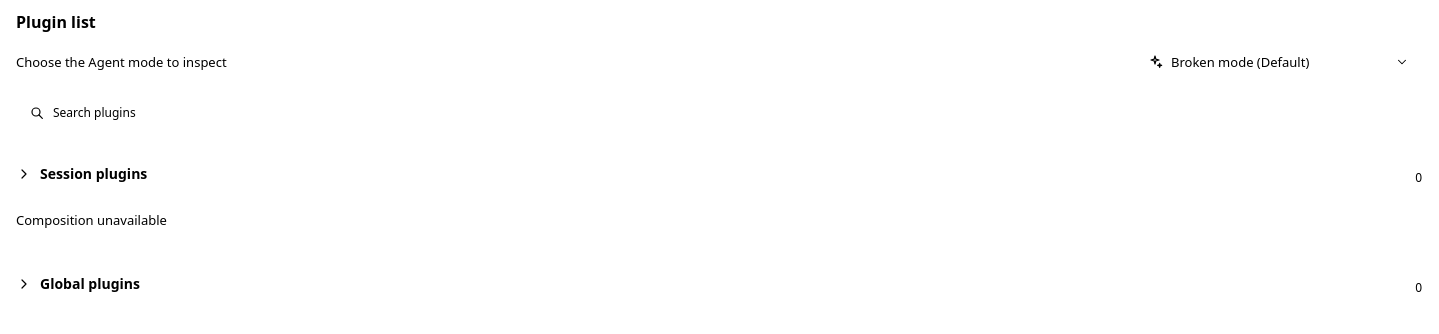
Test: PluginInventory › preserves the broken-composition alert and preset identity
The width and height of the screenshot is (1439, 334).
Expected: the message reads "Composition unavailable", [16,211,167,229]
Click the button "Session plugins": (94, 173) [16,158,1407,190]
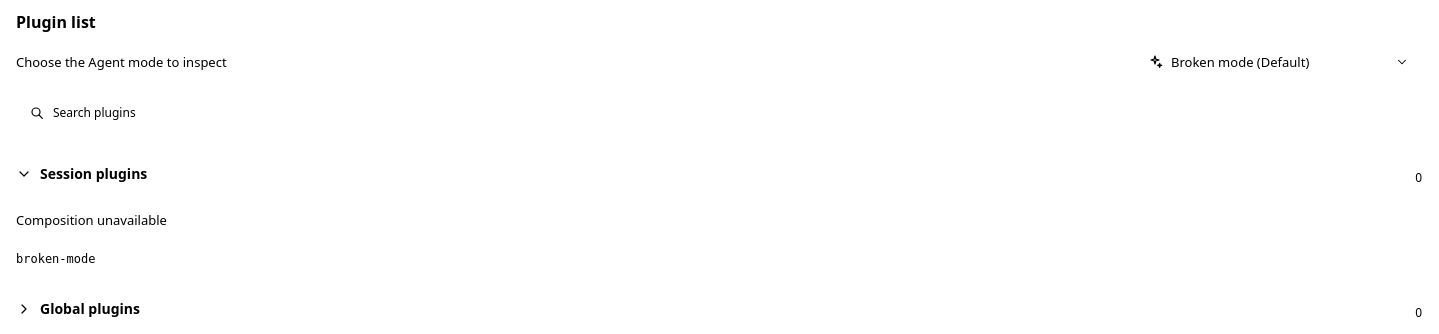
Expected: the text "broken-mode" is shown, [16,252,96,266]
